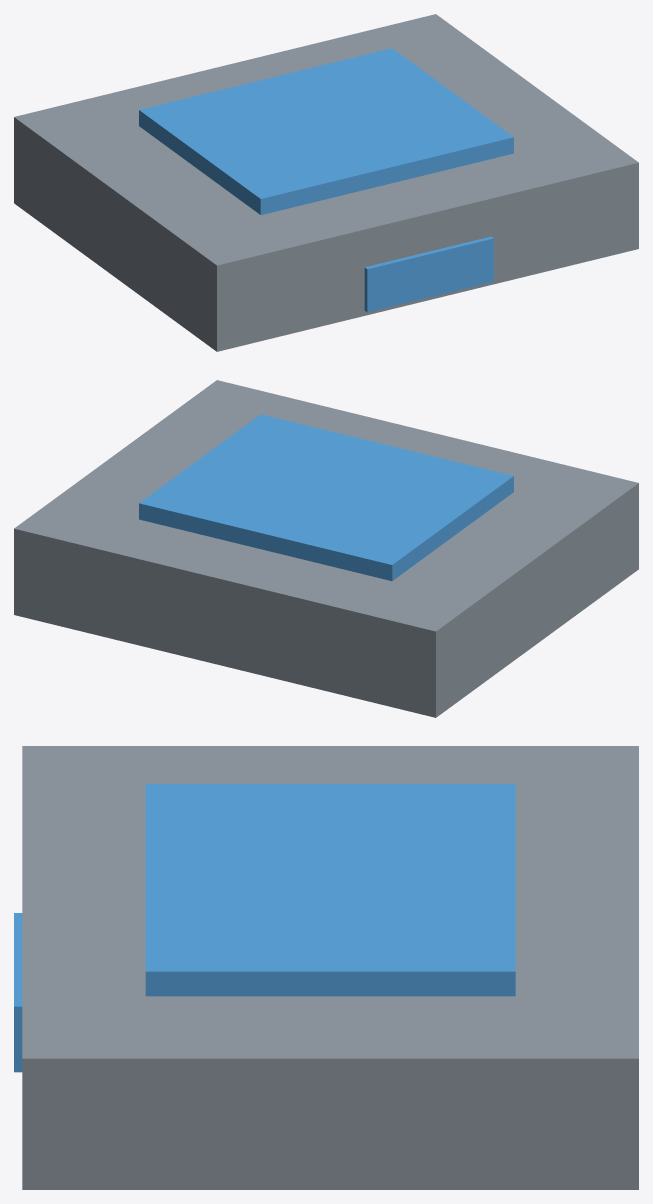
The model's file is SM_Alliance_AL_NightveilBomber_Blockout.fbx.
3 views of the same model, one above another, from view 1: azimuth 30°, elevation 25°; view 2: azimuth 150°, elevation 25°; view 3: azimuth 270°, elevation 25° (orthographic). The views are drawn at different scales.
Visible parts, largest first — view 1: MainBuilding, RoofStructure, EntranceGate; view 2: MainBuilding, RoofStructure; view 3: MainBuilding, RoofStructure, EntranceGate.
Boxes of the visible parts, x1,y1,x2,y2 form: MainBuilding: (14,14,638,351); RoofStructure: (139,48,513,214); EntranceGate: (364,236,493,312); MainBuilding: (14,380,638,717); RoofStructure: (139,414,513,580); MainBuilding: (22,746,638,1189); RoofStructure: (145,784,515,996); EntranceGate: (14,913,22,1072).
Size of the model in its own units: 900 by 209 by 760.
